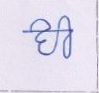i_matra: (59, 13, 72, 59)
